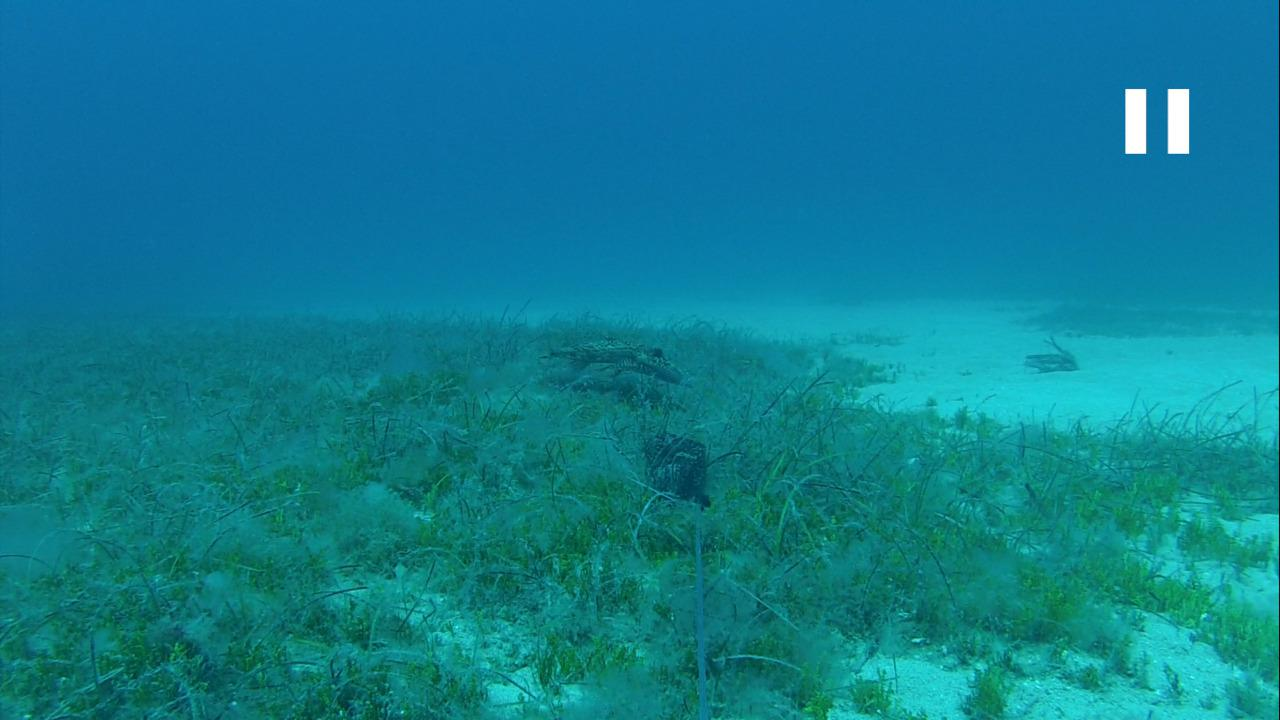dactylopterus: (518, 328, 682, 387)
